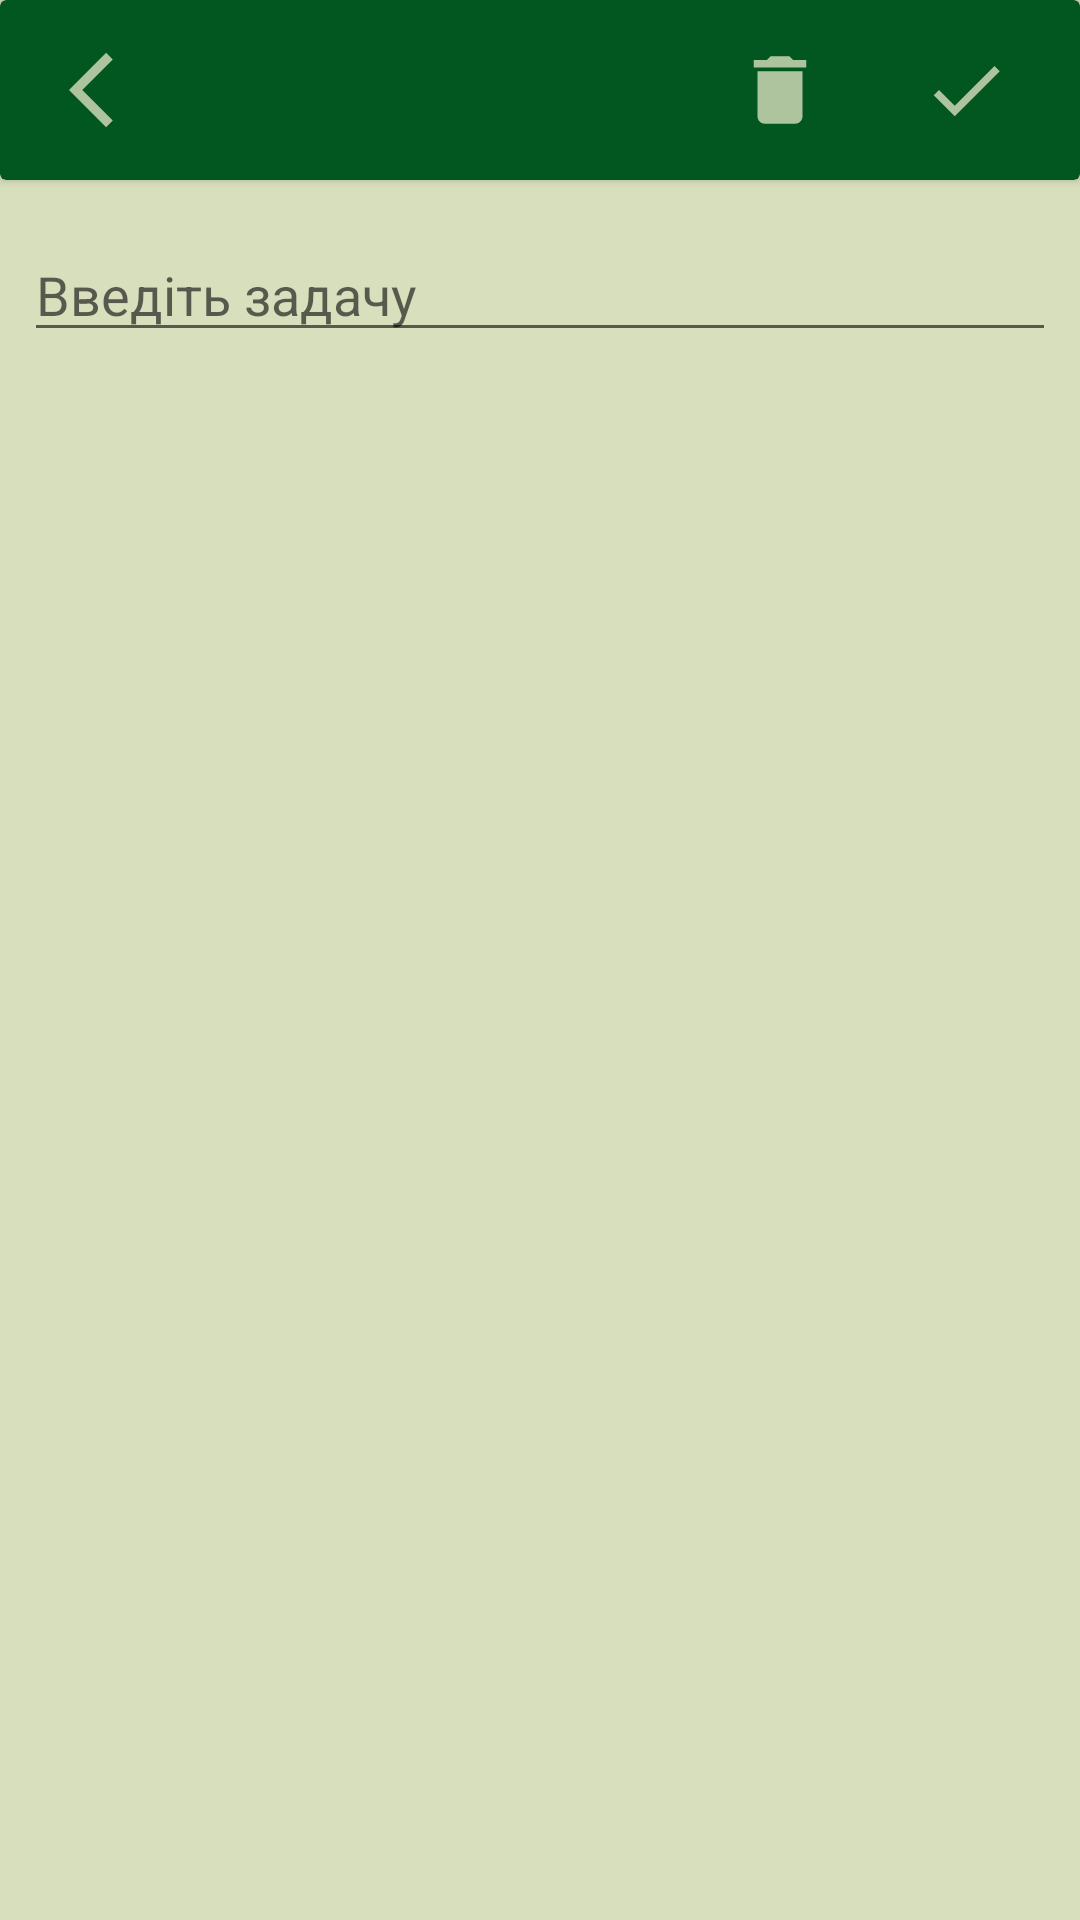

Screen size 1080*1920. Icon name, then its box in pixels as (x1, y1, x2, y2):
back: (69, 53, 113, 127)
delete: (753, 56, 807, 124)
done: (934, 66, 1000, 116)
